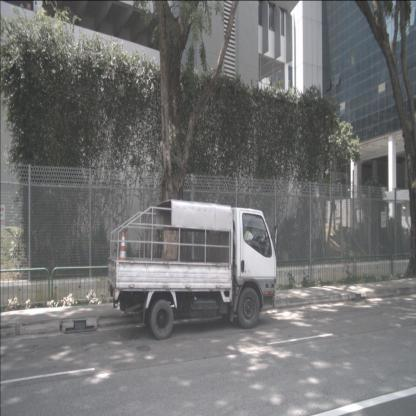cone: (118, 231, 128, 265)
